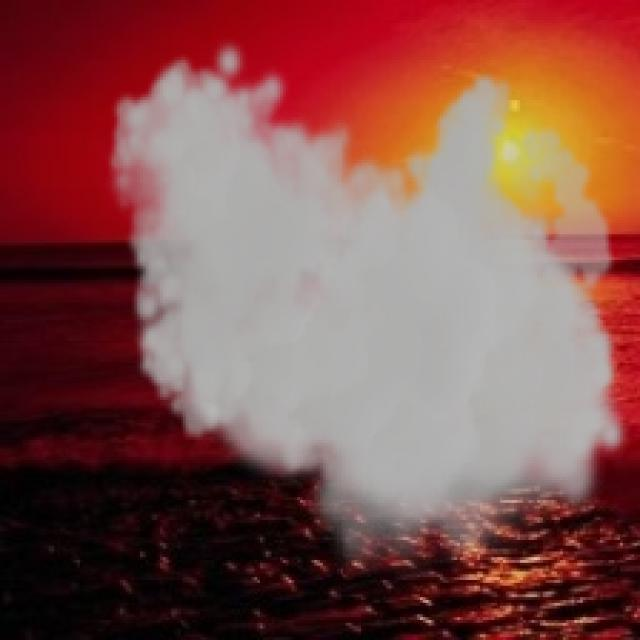smoke: (106, 37, 631, 580)
